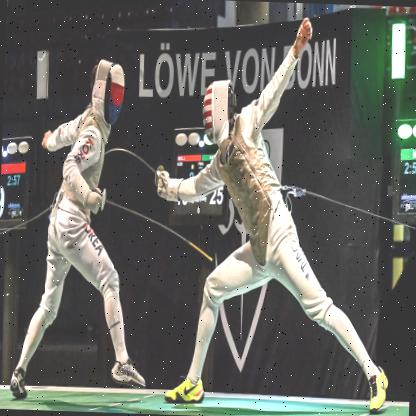fencer: (144, 7, 406, 415), (4, 47, 160, 408)
